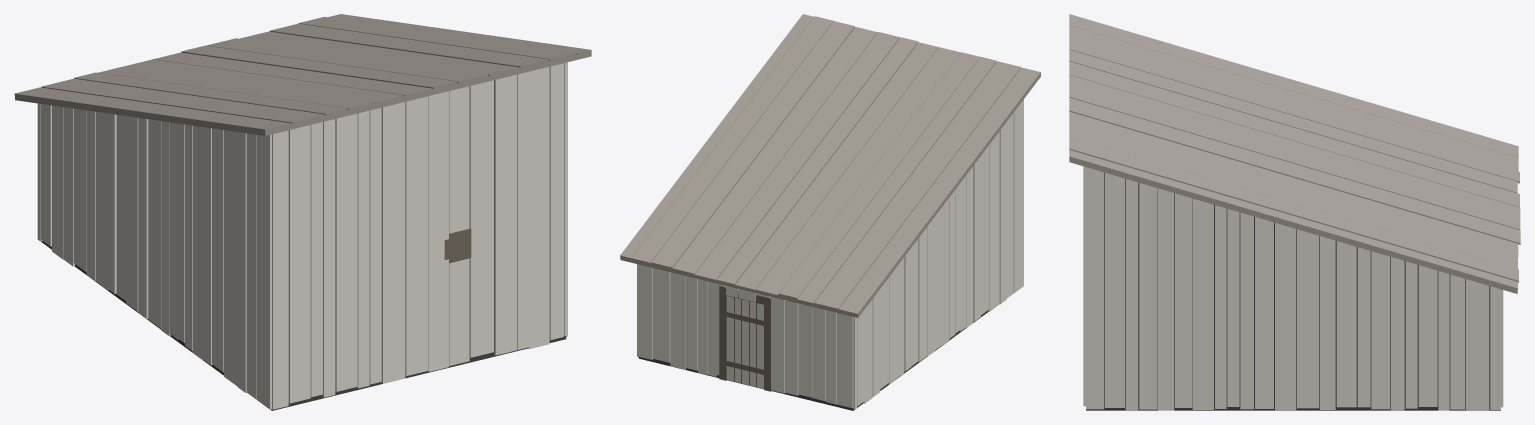
File: recon_1835_blk_randolph_wells_d2_07__inferred_1835.glb
The picture shows the model from 3 angles, left to right: view 1: azimuth 30°, elevation 25°; view 2: azimuth 150°, elevation 25°; view 3: azimuth 270°, elevation 25°; orthographic projection. The views are drawn at different scales.
Visible parts, largest first — view 1: recon_1835_blk_randolph_wells_d2_07__inferred_1835; view 2: recon_1835_blk_randolph_wells_d2_07__inferred_1835; view 3: recon_1835_blk_randolph_wells_d2_07__inferred_1835.
Boxes of the visible parts, x1=… form: recon_1835_blk_randolph_wells_d2_07__inferred_1835: x1=14, y1=14, x2=591, y2=410; recon_1835_blk_randolph_wells_d2_07__inferred_1835: x1=620, y1=14, x2=1040, y2=410; recon_1835_blk_randolph_wells_d2_07__inferred_1835: x1=1069, y1=14, x2=1520, y2=410.
Size of the model in its own units: 5.45 by 4.68 by 7.3.
